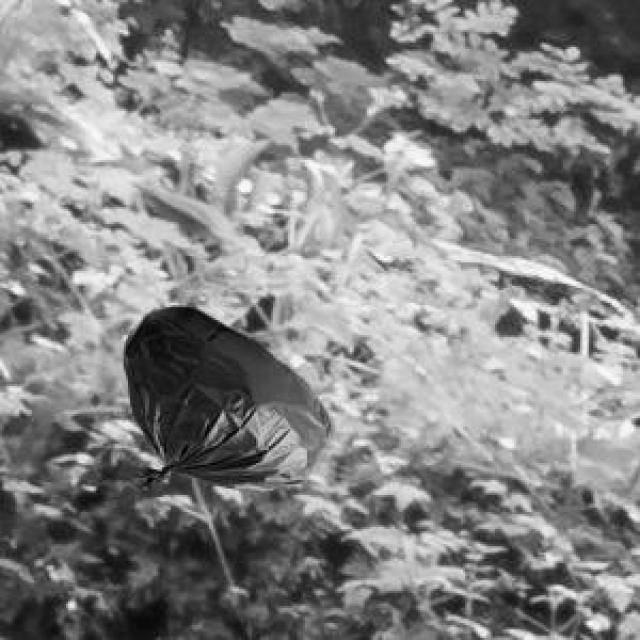miscellaneous trash: (120, 303, 329, 486)
